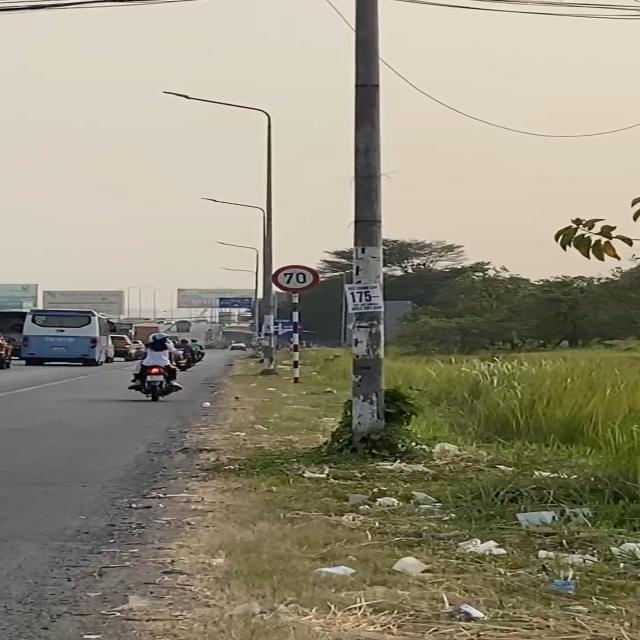127-toc-do-toi-da-70: (271, 264, 320, 293)
